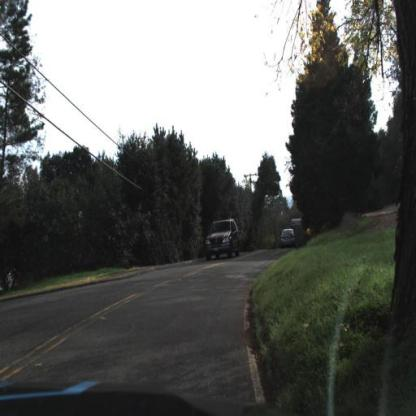car: (203, 220, 246, 267), (205, 218, 241, 265), (279, 224, 297, 253)
